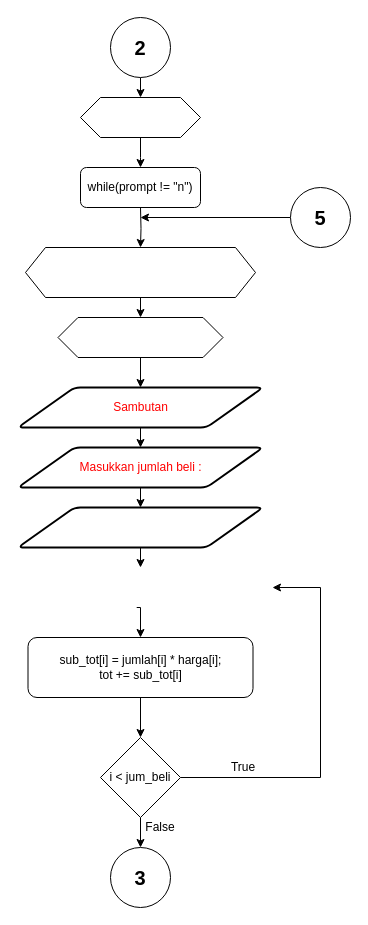
Some shapes in this 368 by 925 pixel diagram are drawn without their labels. Each missing label, with the centre of its shape:
"cin >> jum_beli;" goes at (140,527).
"long long jum_beli, bayar, diskon, jumlah[50], harga[50], sub_tot[50];" goes at (140,272).
"string nama_barang[50]; long long tot;" goes at (140,337).
"string prompt;" goes at (140,117).
